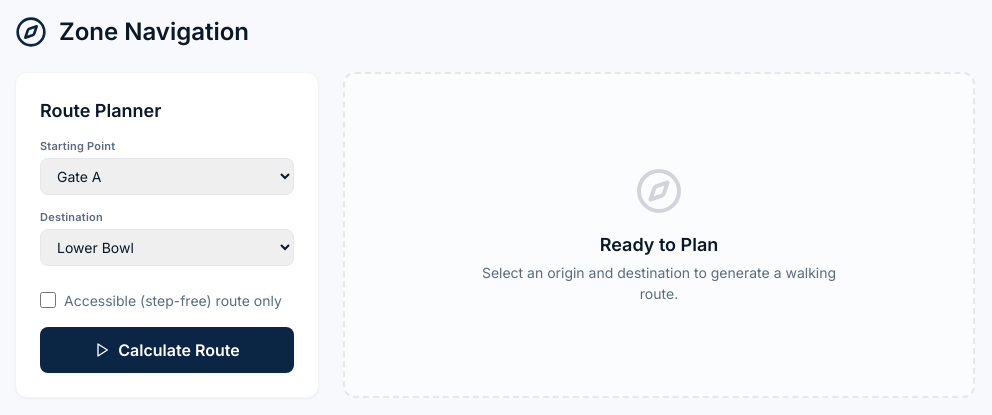
NavigationPanel › renders and fetches navigation
Expected: the heading "Zone Navigation" is shown, [59, 16, 249, 48]
Step 1. Click the button "Calculate Route" → (167, 350), box [40, 327, 294, 373]
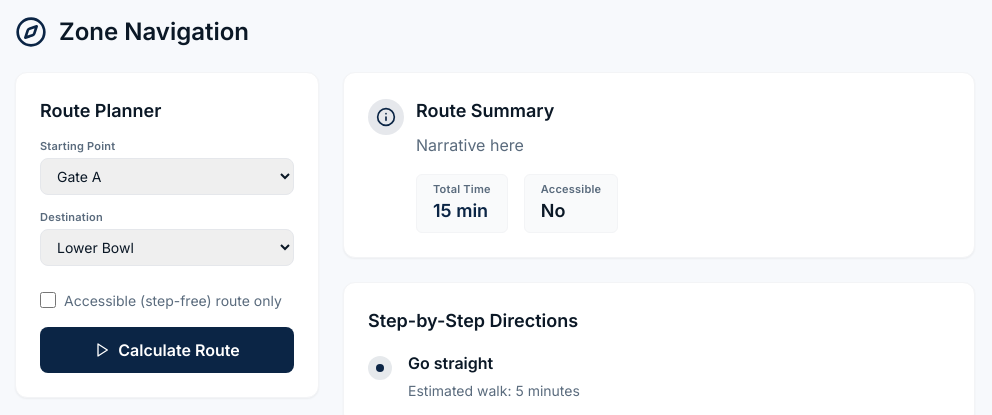
Expected: the text "Narrative here" is shown, [416, 135, 524, 155]
Expected: the text "15 min" is shown, [433, 200, 488, 221]
Expected: the text "Go straight" is shown, [408, 353, 493, 373]
